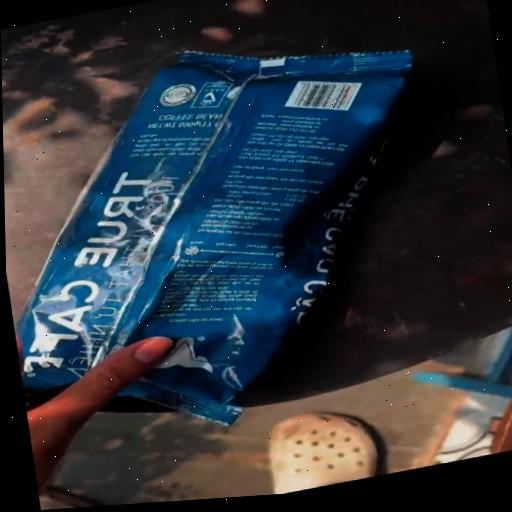cafe_hat: (19, 51, 412, 423)
